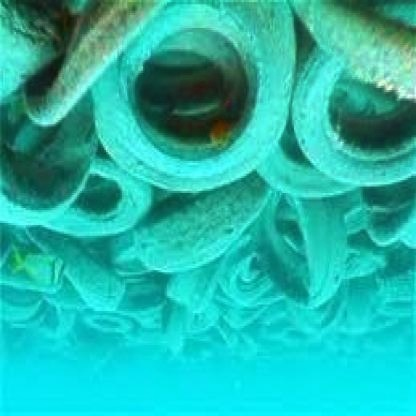tire: (89, 4, 300, 176), (282, 2, 416, 188), (122, 173, 281, 274), (2, 90, 108, 232), (262, 184, 347, 311), (88, 283, 264, 337), (48, 159, 158, 238), (37, 234, 124, 304)
